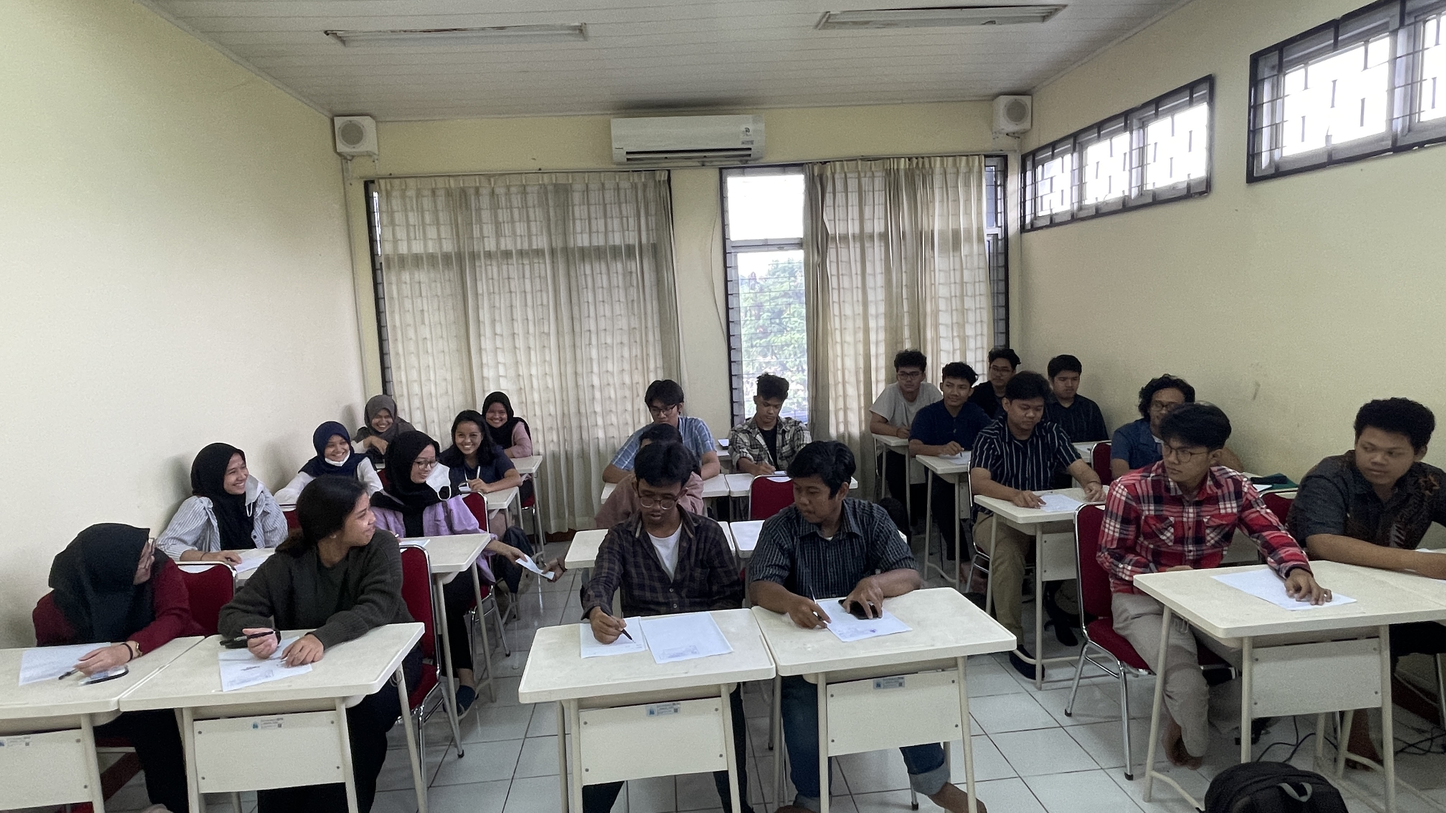non-cheating: (838, 597, 888, 624)
phone: (1347, 394, 1439, 490), (298, 476, 378, 563), (78, 521, 157, 607), (1158, 401, 1231, 491), (784, 448, 856, 524), (187, 439, 253, 501), (499, 544, 581, 585), (389, 434, 443, 488), (310, 419, 357, 469)
